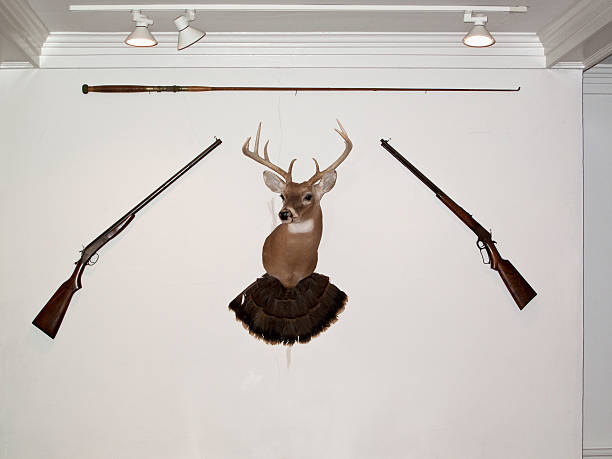shotgun: (21, 135, 225, 361), (377, 135, 544, 317)
